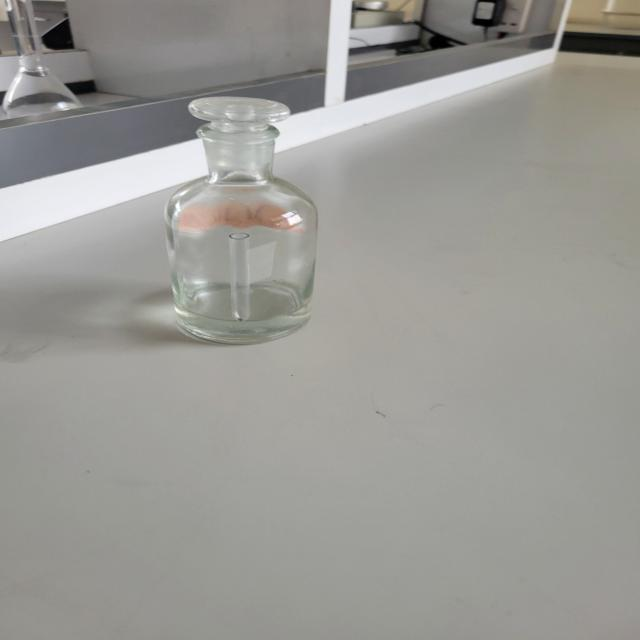Reagent_Bottle: (110, 65, 368, 368)
